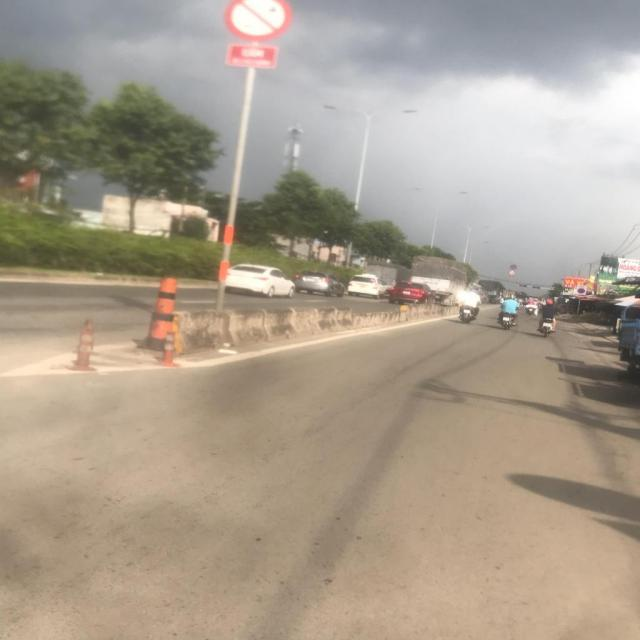cam_dung_xe_va_do_xe: (510, 264, 518, 270), (578, 288, 584, 294)
cam_xe_2_banh_va_xe_3_banh_co_dong_co: (225, 1, 292, 43), (508, 270, 516, 276)
